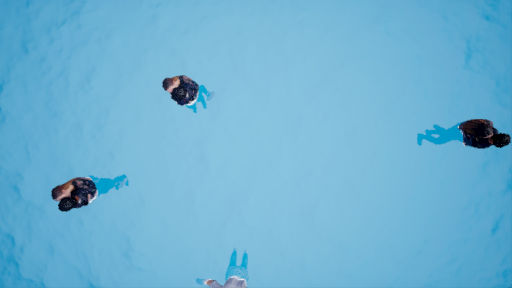person: (406, 111, 508, 159), (55, 169, 138, 219), (165, 72, 221, 116)
